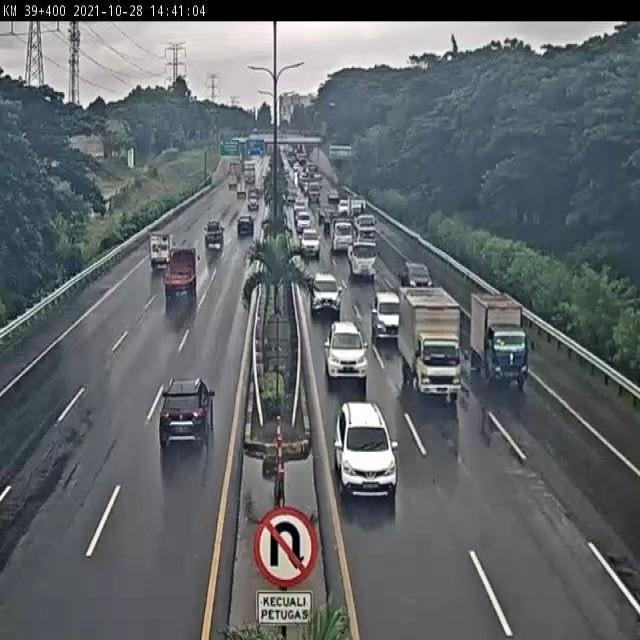car: (333, 400, 398, 503), (157, 376, 216, 451), (324, 319, 371, 388), (309, 271, 343, 317), (371, 291, 400, 344), (398, 257, 431, 287)
mid truck: (162, 245, 199, 299)
truck-m-: (398, 285, 463, 403)
truck-s-: (471, 291, 529, 389)
